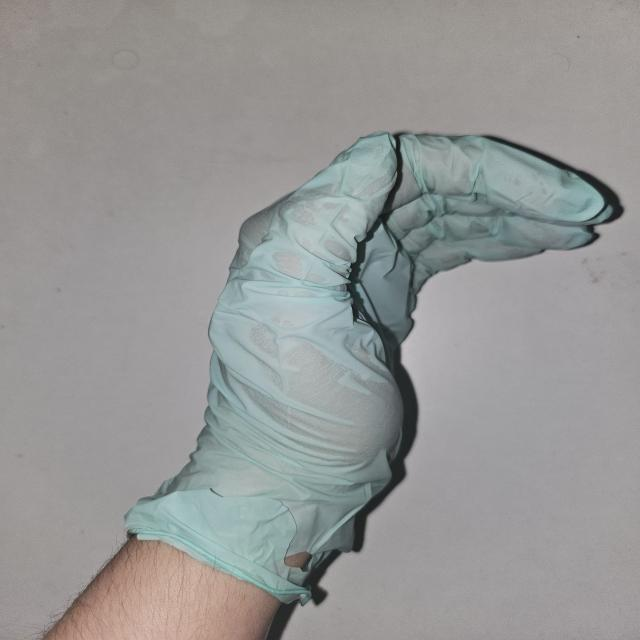gloves_damaged: (122, 130, 620, 600)
